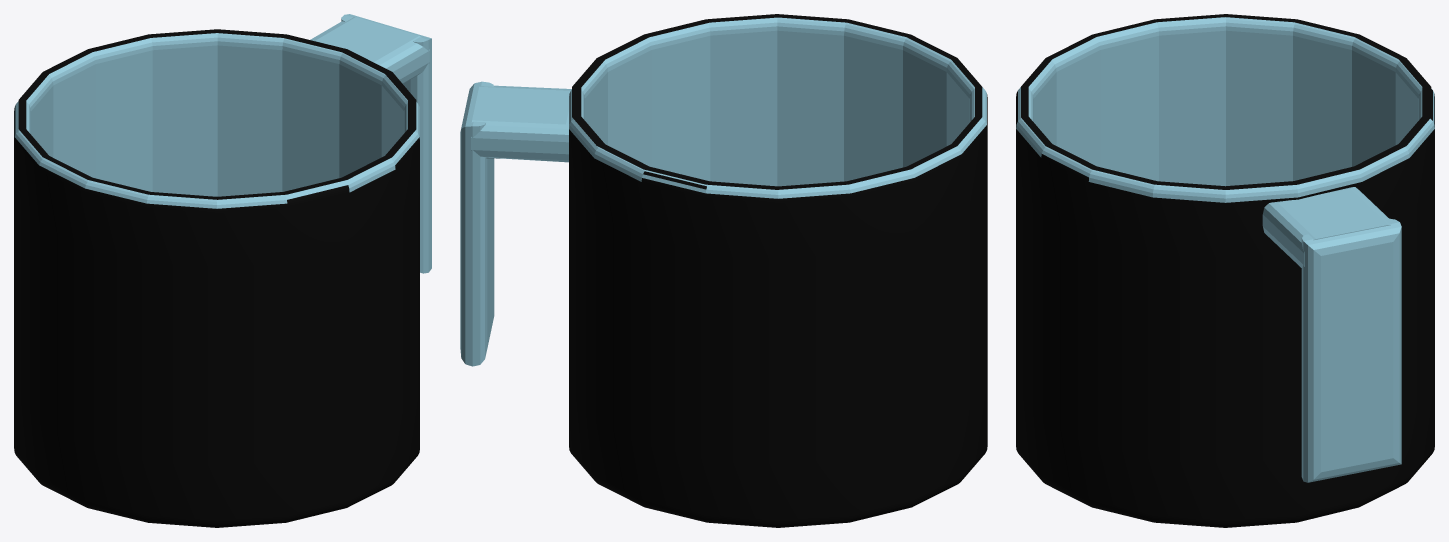
Rendered from cup1.FBX.
3 renders of one model, left to right at view 1: azimuth 30°, elevation 25°; view 2: azimuth 150°, elevation 25°; view 3: azimuth 270°, elevation 25°, orthographic. The views are drawn at different scales.
Visible parts, largest first — view 1: cup_body, cup_edge; view 2: cup_body, cup_edge, Object001; view 3: cup_body, cup_edge, Object001.
Boxes of the visible parts, x1=… form: cup_body: x1=14, y1=29, x2=419, y2=527; cup_edge: x1=14, y1=14, x2=431, y2=273; cup_body: x1=569, y1=14, x2=987, y2=527; cup_edge: x1=461, y1=17, x2=986, y2=366; Object001: x1=460, y1=126, x2=568, y2=366; cup_body: x1=1016, y1=14, x2=1434, y2=527; cup_edge: x1=1016, y1=17, x2=1434, y2=482; Object001: x1=1309, y1=228, x2=1401, y2=482.
Size of the model in its own units: 20.72 by 15 by 16.74.
